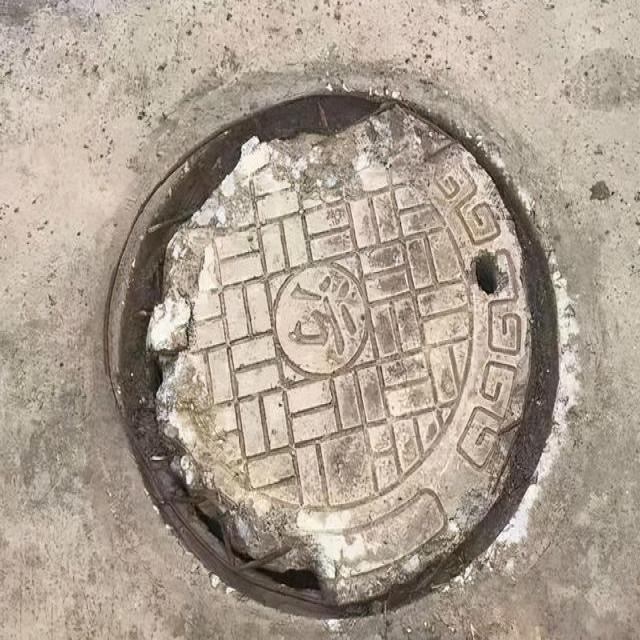manhole: (99, 89, 563, 618)
